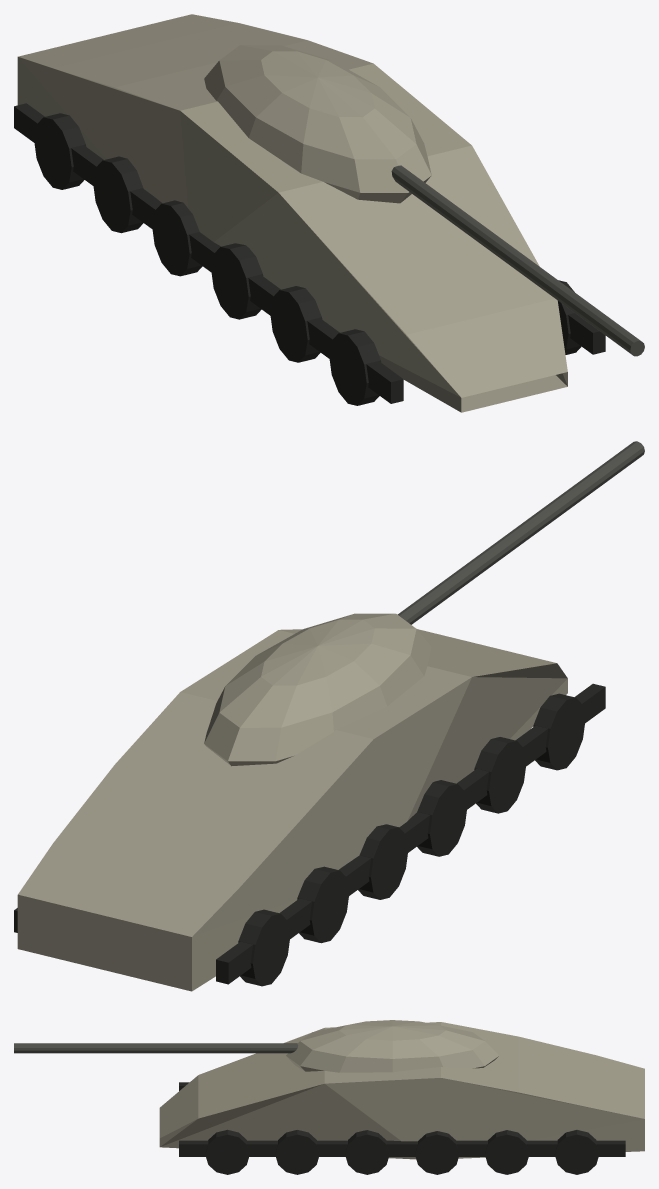
Rendered from nebelwerfer.glb.
3 renders of one model, top to bottom at view 1: azimuth 30°, elevation 25°; view 2: azimuth 150°, elevation 25°; view 3: azimuth 270°, elevation 25°, orthographic. The views are drawn at different scales.
Visible parts, largest first — view 1: Hull, Turret, Track_L, Gun, Wheel_L_06, Wheel_L_01, Wheel_L_02, Wheel_L_03, Wheel_L_05, Wheel_L_04, Track_R, Wheel_R_01; view 2: Hull, Turret, Track_L, Gun, Wheel_L_01, Wheel_L_02, Wheel_L_06, Wheel_L_05, Wheel_L_03, Wheel_L_04; view 3: Hull, Turret, Track_R, Gun, Wheel_R_06, Wheel_R_01, Wheel_R_02, Wheel_R_05, Wheel_R_03, Wheel_R_04.
Boxes of the visible parts, left/top/right/bottom form: Hull: left=17, top=14, right=567, bottom=412; Turret: left=204, top=45, right=431, bottom=203; Track_L: left=14, top=103, right=403, bottom=403; Gun: left=391, top=165, right=644, bottom=356; Wheel_L_06: left=34, top=113, right=86, bottom=189; Wheel_L_01: left=329, top=329, right=381, bottom=405; Wheel_L_02: left=270, top=286, right=322, bottom=362; Wheel_L_03: left=211, top=243, right=263, bottom=319; Wheel_L_05: left=93, top=156, right=143, bottom=233; Wheel_L_04: left=152, top=200, right=202, bottom=276; Track_R: left=568, top=313, right=605, bottom=354; Wheel_R_01: left=558, top=280, right=581, bottom=354; Hull: left=17, top=629, right=567, bottom=991; Turret: left=204, top=613, right=431, bottom=766; Track_L: left=216, top=683, right=605, bottom=984; Gun: left=397, top=441, right=644, bottom=624; Wheel_L_01: left=533, top=693, right=585, bottom=770; Wheel_L_02: left=474, top=737, right=526, bottom=813; Wheel_L_06: left=238, top=909, right=290, bottom=986; Wheel_L_05: left=297, top=866, right=349, bottom=943; Wheel_L_03: left=417, top=780, right=467, bottom=856; Wheel_L_04: left=358, top=824, right=408, bottom=899; Hull: left=159, top=1022, right=644, bottom=1159; Turret: left=286, top=1020, right=498, bottom=1072; Track_R: left=179, top=1140, right=625, bottom=1156; Gun: left=14, top=1043, right=298, bottom=1053; Wheel_R_06: left=554, top=1130, right=599, bottom=1174; Wheel_R_01: left=205, top=1129, right=249, bottom=1174; Wheel_R_02: left=275, top=1130, right=319, bottom=1174; Wheel_R_05: left=485, top=1130, right=529, bottom=1174; Wheel_R_03: left=345, top=1130, right=389, bottom=1174; Wheel_R_04: left=415, top=1131, right=459, bottom=1174.
Bounding box in the file's own units: 1.66 × 1.44 × 7.02.
